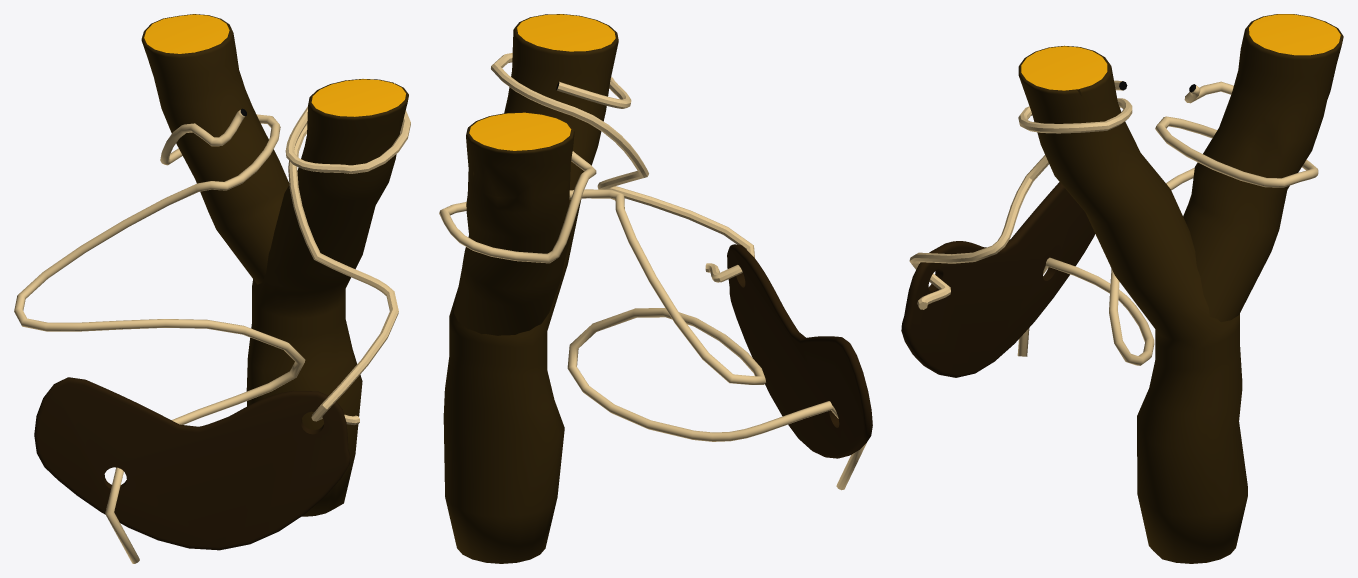
The model's file is Tirachinas_Laberinto_Escuela.fbx.
3 renders of one model, left to right at view 1: azimuth 30°, elevation 25°; view 2: azimuth 150°, elevation 25°; view 3: azimuth 270°, elevation 25°, orthographic. The views are drawn at different scales.
Parts seen in each view (by area): view 1: Cylinder002, Line003, Line001, Line002; view 2: Cylinder002, Line003, Line001, Line002; view 3: Cylinder002, Line003, Line001, Line002.
Boxes of the visible parts, x1,y1,x2,y2 form: Cylinder002: (141,14,408,516); Line003: (34,377,350,550); Line001: (14,108,305,563); Line002: (285,106,410,425); Cylinder002: (443,14,618,563); Line003: (727,244,872,458); Line001: (439,151,866,490); Line002: (491,53,754,282); Cylinder002: (1018,14,1343,563); Line003: (901,182,1095,377); Line001: (1017,81,1318,365); Line002: (909,80,1132,309).
Bounding box in the file's own units: 139 × 164 × 138.
Materials: 4 (4 with a texture image).
